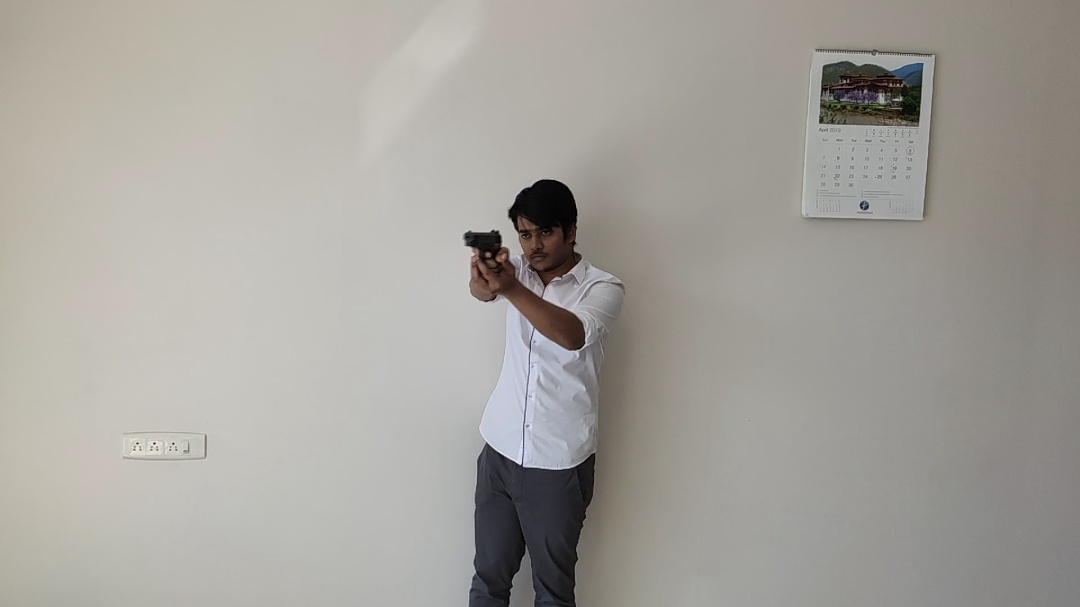gun: (463, 228, 505, 260)
